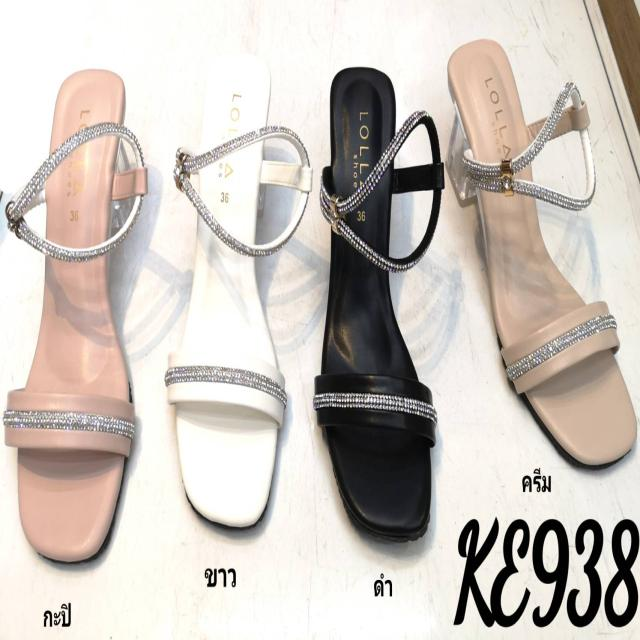black: (320, 64, 436, 549)
cream: (449, 38, 636, 472)
kapi: (19, 72, 129, 563)
white: (174, 55, 285, 528)
